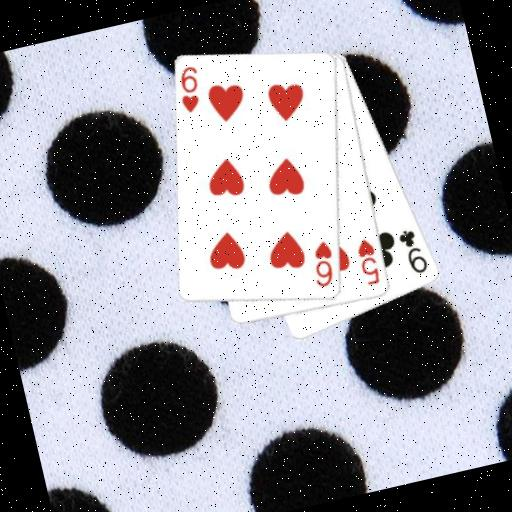5H: (352, 234, 384, 288)
6H: (304, 237, 342, 292), (171, 61, 209, 116)
9C: (395, 223, 432, 278)
